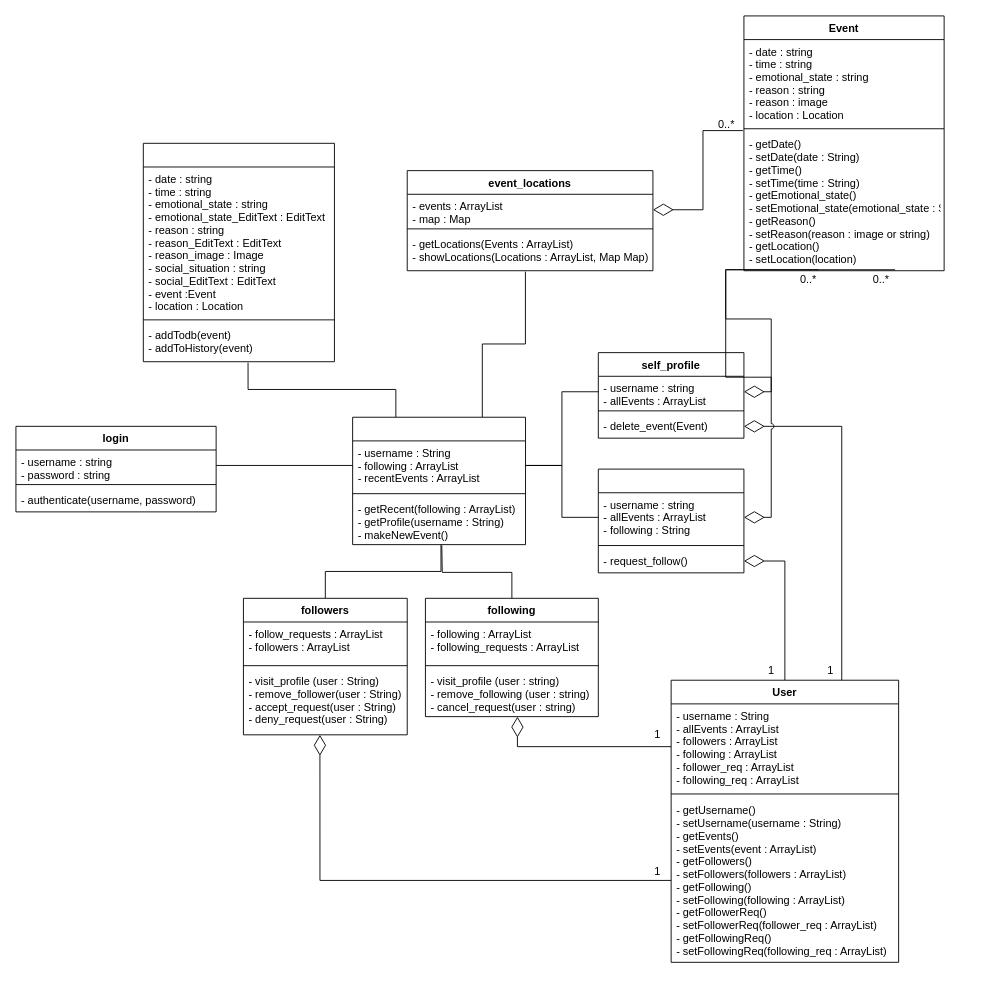
Some shapes in this 986 by 981 pixel diagram are drawn without their labels. The shapes that lost their labels are listed below. From the top down, each one's box as (x1, y1, x2, y2) in pixels, then its label:
(142, 142, 334, 362): new_event
(352, 416, 526, 545): main
(597, 468, 744, 573): profile
